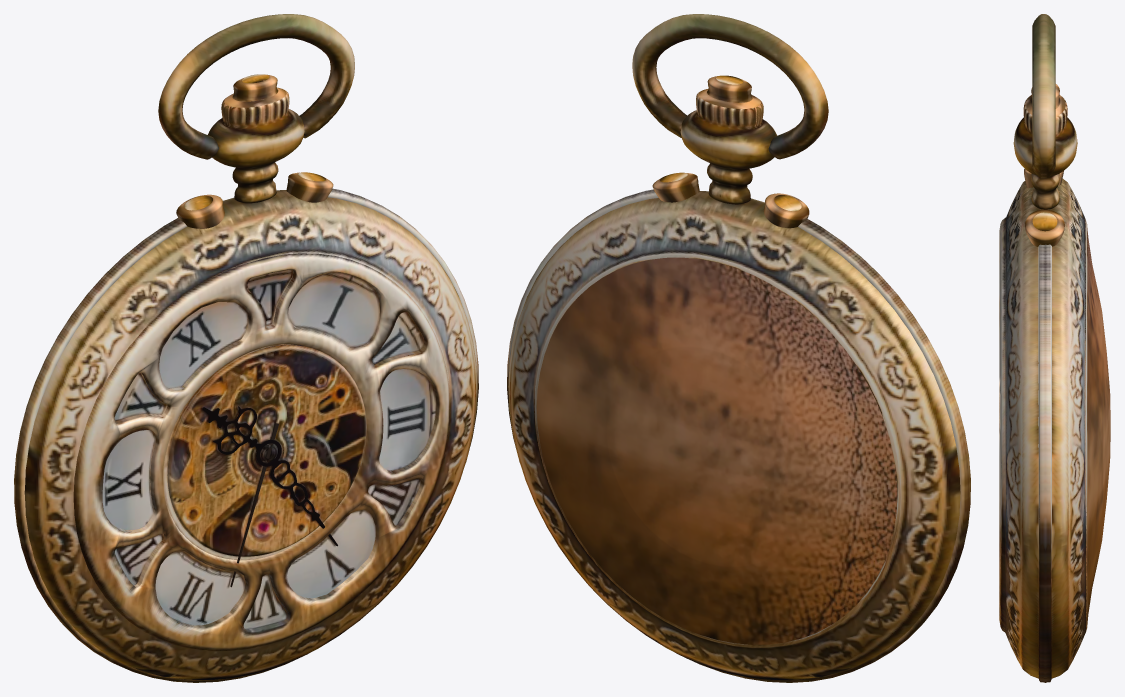
3 views of the same model, side by side, from view 1: azimuth 30°, elevation 25°; view 2: azimuth 150°, elevation 25°; view 3: azimuth 270°, elevation 25° (orthographic). The views are drawn at different scales.
Visible parts, largest first — view 1: 素白艺术™___suby_cn_vip_5, 素白艺术™___suby_cn_vip_6, 素白艺术™___suby_cn_vip_7; view 2: 素白艺术™___suby_cn_vip_5; view 3: 素白艺术™___suby_cn_vip_5, 素白艺术™___suby_cn_vip_6.
Boxes of the visible parts, x1,y1,x2,y2 form: 素白艺术™___suby_cn_vip_5: [14, 14, 478, 682]; 素白艺术™___suby_cn_vip_6: [73, 253, 450, 651]; 素白艺术™___suby_cn_vip_7: [167, 345, 366, 556]; 素白艺术™___suby_cn_vip_5: [507, 14, 970, 682]; 素白艺术™___suby_cn_vip_5: [1005, 14, 1110, 682]; 素白艺术™___suby_cn_vip_6: [999, 217, 1005, 632].
Size of the model in its own units: 249 by 337 by 53.61.
Materials: 2 (2 with a texture image).
